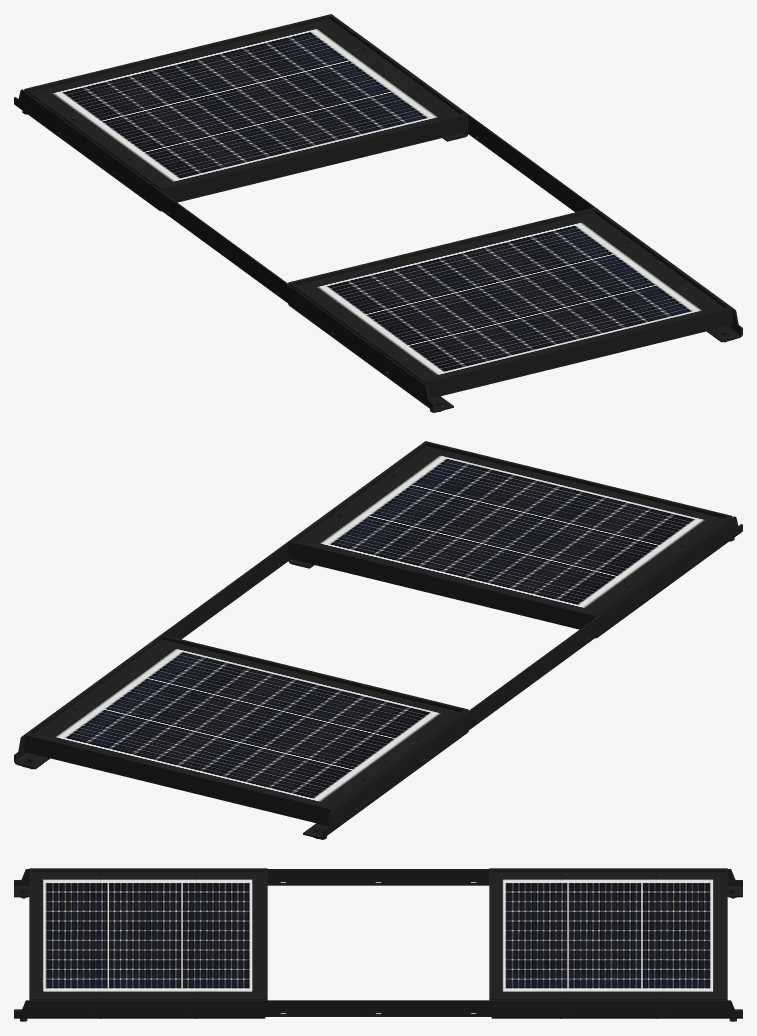
3 views of the same model, one above another, from view 1: azimuth 30°, elevation 25°; view 2: azimuth 150°, elevation 25°; view 3: azimuth 270°, elevation 25° (orthographic). The views are drawn at different scales.
Visible parts, largest first — view 1: d; view 2: d; view 3: d.
Boxes of the visible parts, x1,y1,x2,y2 form: d: (14,14,742,412); d: (14,441,742,839); d: (14,868,742,1021).
Bounding box in the file's own units: 0.6663 × 0.0595 × 1.56.
1 material, 1 textured.
